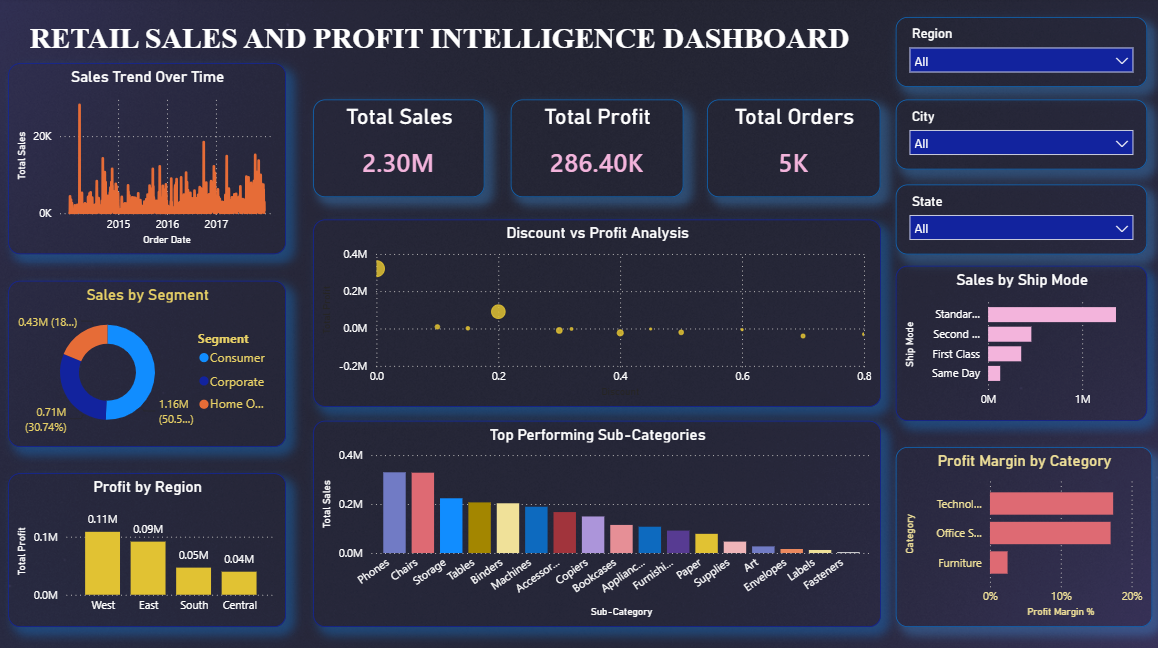

What the dashboard file says about the page in this screenshot:
{"tool":"powerbi","page":{"name":"RETAIL SALES AND PROFIT INTELLIGENCE DASHBOARD","canvas":[1280,720],"ordinal":0},"visuals":[{"type":"lineChart","title":"Sales Trend Over Time","fields":{"Y":["Orders.Total Sales"],"Category":["Orders.Order Date.Variation.Date Hierarchy.Year"]},"box":[12.3,72.7,304.6,209.9],"z":0},{"type":"clusteredBarChart","title":"Profit Margin by Category","fields":{"Y":["Orders.Profit Margin %"],"Category":["Orders.Category"]},"box":[986.6,494,281.3,197.6],"z":1000},{"type":"clusteredColumnChart","title":"Profit by Region","fields":{"Category":["Orders.Region"],"Y":["Orders.Total Profit"]},"box":[12.3,522.8,304.6,168.8],"z":2000},{"type":"donutChart","title":"Sales by Segment","fields":{"Category":["Orders.Segment"],"Y":["Orders.Total Sales"]},"box":[12.3,311.5,304.6,182.5],"z":3000},{"type":"slicer","fields":{"Values":["Orders.State"]},"box":[986.6,205.8,275.8,76.8],"z":4000},{"type":"columnChart","title":"Top Performing Sub-Categories","fields":{"Category":["Orders.Sub-Category"],"Y":["Orders.Total Sales"]},"box":[347.2,465.2,623,226.4],"z":5000},{"type":"scatterChart","title":"Discount vs Profit Analysis","fields":{"Size":["Sum(Orders.Sales)"],"X":["Orders.Discount"],"Y":["Orders.Total Profit"]},"box":[347.2,244.3,623,205.8],"z":6000},{"type":"clusteredBarChart","title":"Sales by Ship Mode","fields":{"Category":["Orders.Ship Mode"],"Y":["Orders.Total Sales"]},"box":[986.6,295,275.8,170.2],"z":7000},{"type":"slicer","fields":{"Values":["Orders.Region"]},"box":[986.6,22,275.8,76.8],"z":8000},{"type":"slicer","fields":{"Values":["Orders.City"]},"box":[986.6,112.5,275.8,76.8],"z":9000},{"type":"cardVisual","title":"Total Sales","fields":{"Data":["Orders.Total Sales"]},"box":[347.2,112.5,188,107],"z":10000},{"type":"cardVisual","title":"Total Profit","fields":{"Data":["Orders.Total Profit"]},"box":[564,112.5,189.4,107],"z":11000},{"type":"cardVisual","title":"Total Orders","fields":{"Data":["Orders.Total Orders"]},"box":[779.4,112.5,190.7,107],"z":12000},{"type":"textbox","box":[12.3,22,946.8,76.8],"z":13000}]}

Visuals, with their boxes in screenshot pixels (x1, y1, x2, y2), scaled from the page's 1280x720 canvas onto the 1158x648 screenshot:
"Sales Trend Over Time" lineChart: bbox=(11, 65, 287, 254)
"Profit Margin by Category" clusteredBarChart: bbox=(893, 445, 1147, 622)
"Profit by Region" clusteredColumnChart: bbox=(11, 471, 287, 622)
"Sales by Segment" donutChart: bbox=(11, 280, 287, 445)
slicer - Orders.State: bbox=(893, 185, 1142, 254)
"Top Performing Sub-Categories" columnChart: bbox=(314, 419, 878, 622)
"Discount vs Profit Analysis" scatterChart: bbox=(314, 220, 878, 405)
"Sales by Ship Mode" clusteredBarChart: bbox=(893, 266, 1142, 419)
slicer - Orders.Region: bbox=(893, 20, 1142, 89)
slicer - Orders.City: bbox=(893, 101, 1142, 170)
"Total Sales" cardVisual: bbox=(314, 101, 484, 198)
"Total Profit" cardVisual: bbox=(510, 101, 682, 198)
"Total Orders" cardVisual: bbox=(705, 101, 878, 198)
textbox: bbox=(11, 20, 868, 89)
